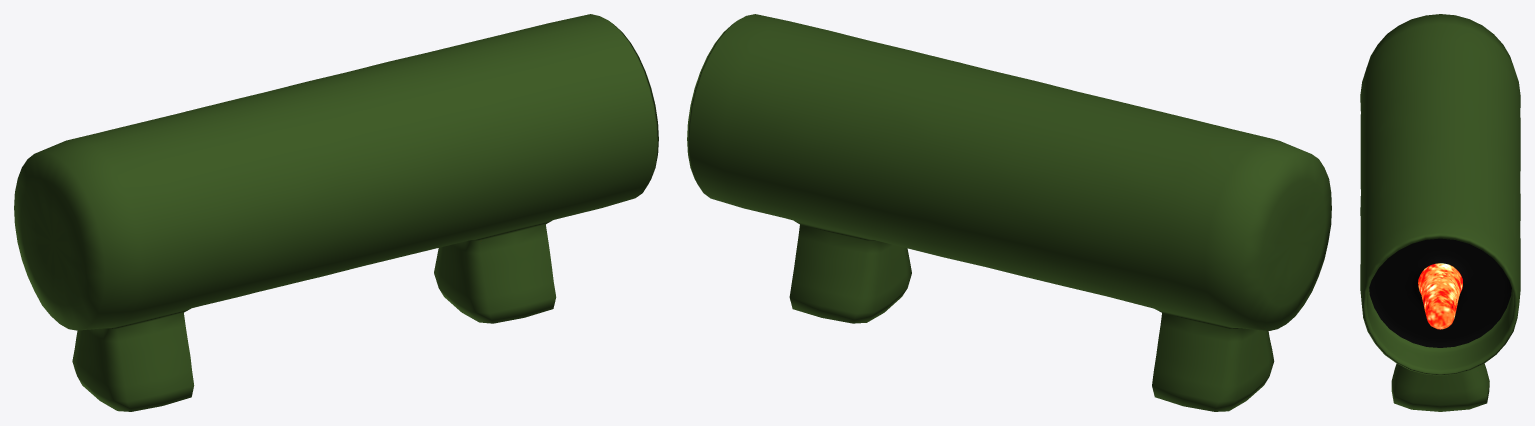
Rendered from Side-laser1-ue.FBX.
The picture shows the model from 3 angles, left to right: view 1: azimuth 30°, elevation 25°; view 2: azimuth 150°, elevation 25°; view 3: azimuth 270°, elevation 25°; orthographic projection. The views are drawn at different scales.
Visible parts, largest first — view 1: Side_laser1; view 2: Side_laser1; view 3: Side_laser1.
Part boxes in pixels (x1,y1,x2,y2): Side_laser1: (14,14,658,411); Side_laser1: (687,14,1331,411); Side_laser1: (1360,14,1520,411).
Bounding box in the file's own units: 38.44 × 16.18 × 10.96.
1 material, 1 textured.
